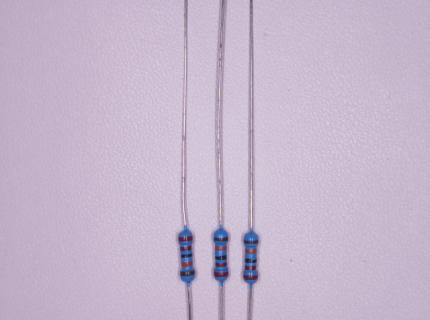Black band: (245, 258, 257, 263), (215, 255, 227, 260), (180, 253, 192, 258)
Brown band: (213, 236, 228, 242), (180, 271, 195, 277), (244, 239, 259, 244)
Orange band: (181, 261, 193, 267), (245, 249, 257, 254), (215, 246, 226, 251)
Red band: (243, 274, 258, 280), (178, 236, 193, 241), (180, 245, 192, 251), (214, 272, 228, 277), (215, 262, 227, 267), (245, 265, 257, 270)
